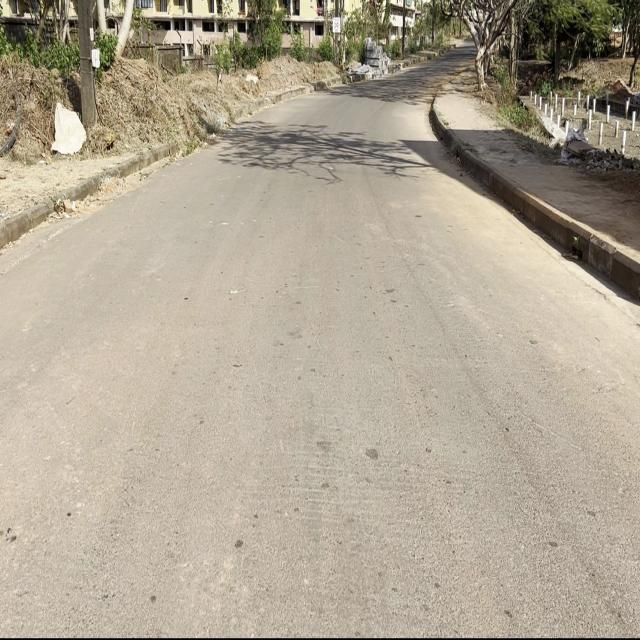Road: (0, 66, 639, 640)
